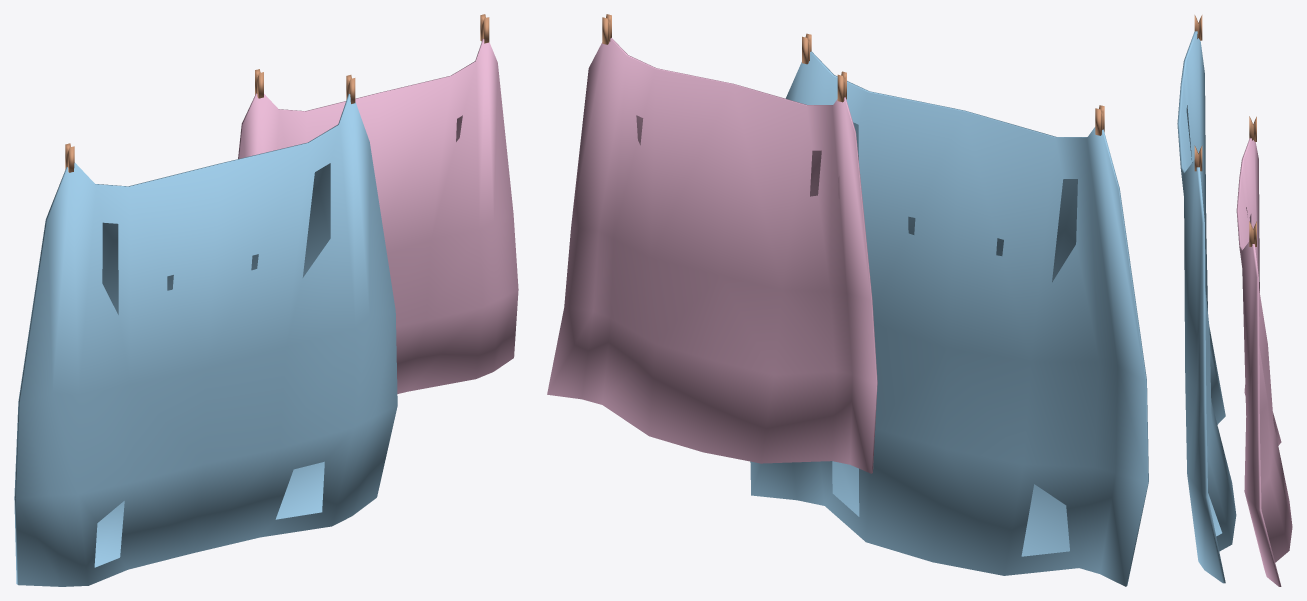
File: Laund1.fbx
3 renders of one model, left to right at view 1: azimuth 30°, elevation 25°; view 2: azimuth 150°, elevation 25°; view 3: azimuth 270°, elevation 25°, orthographic. The views are drawn at different scales.
Visible parts, largest first — view 1: Laund_01, Laund_02; view 2: Laund_01, Laund_02; view 3: Laund_01, Laund_02.
Part boxes in pixels (<box>): Laund_01: <box>14,75,397,586</box>; Laund_02: <box>238,14,518,393</box>; Laund_01: <box>750,33,1148,586</box>; Laund_02: <box>547,14,877,473</box>; Laund_01: <box>1177,15,1236,583</box>; Laund_02: <box>1236,116,1292,586</box>.
Size of the model in its own units: 305 by 247 by 59.38.
